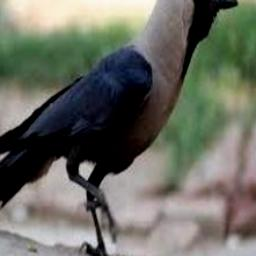Crow: (0, 0, 239, 256)
